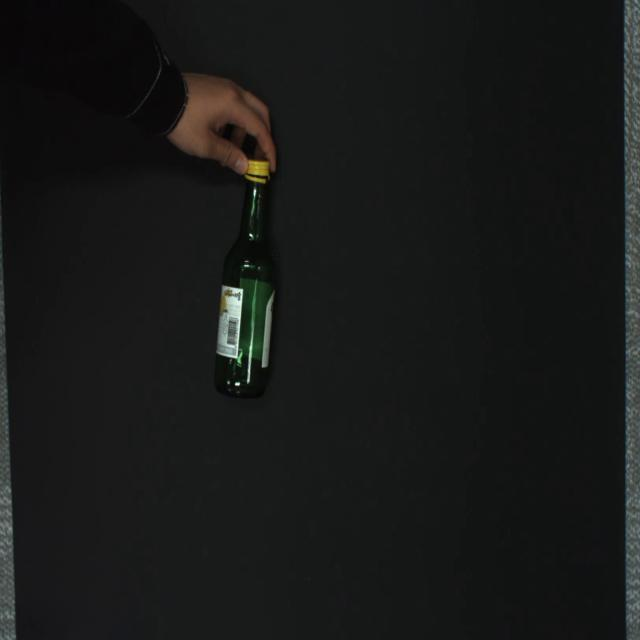soju-bottle: (215, 160, 276, 397)
